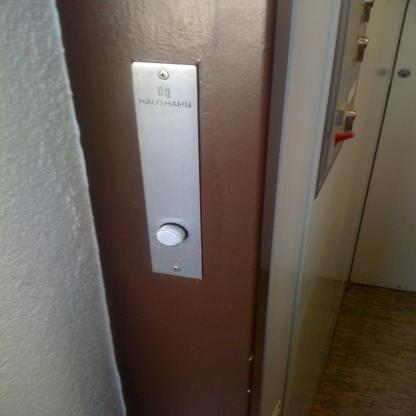empty: (150, 219, 191, 250)
